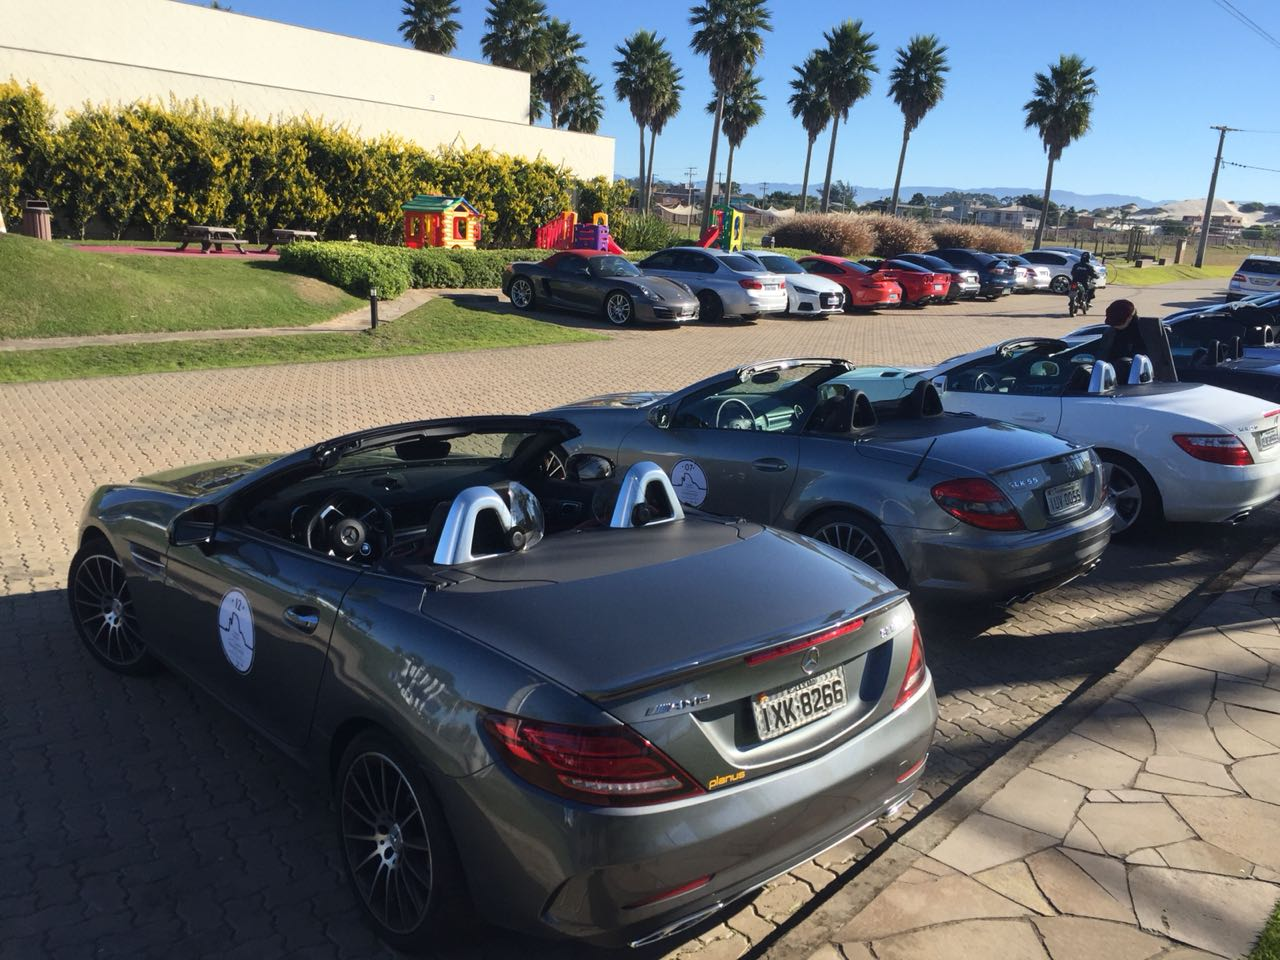Carro: (44, 397, 962, 936), (477, 348, 1120, 614), (878, 329, 1280, 538), (494, 234, 703, 338), (630, 244, 794, 316), (732, 241, 850, 323), (791, 254, 904, 310), (891, 245, 981, 301), (922, 242, 1012, 297), (856, 257, 949, 305), (1225, 245, 1280, 315), (989, 248, 1050, 296)
Moto: (1062, 240, 1109, 320)
